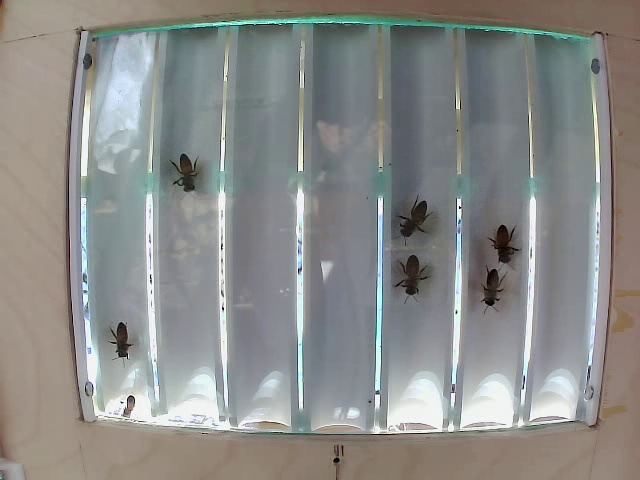bee: (157, 148, 205, 203), (464, 258, 502, 311), (105, 319, 140, 369), (403, 200, 432, 249), (390, 251, 420, 296), (491, 219, 519, 267)
